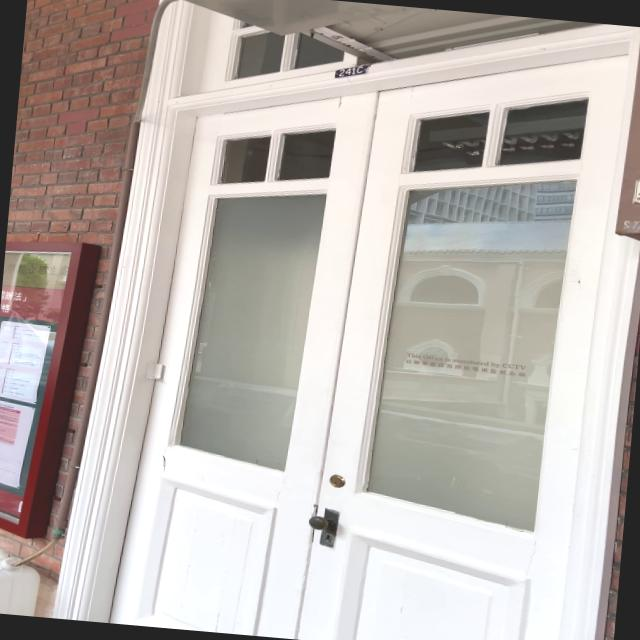room241c: (331, 61, 370, 84)
